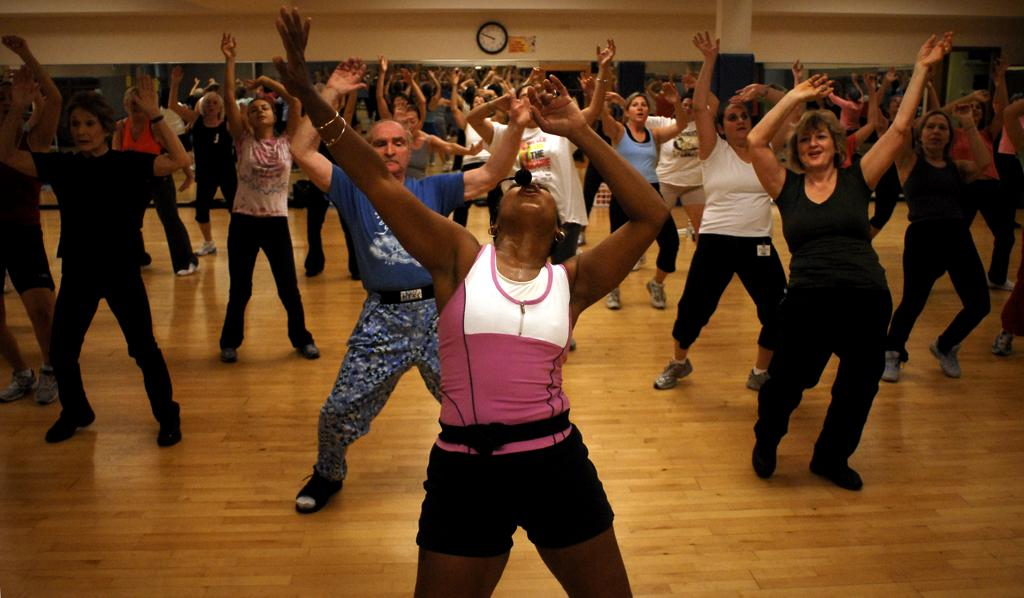face: (499, 180, 557, 225), (369, 128, 408, 173), (796, 123, 834, 168), (70, 107, 104, 150), (922, 114, 949, 150), (724, 103, 749, 139), (248, 100, 274, 125), (628, 96, 647, 122), (399, 112, 418, 137), (128, 94, 145, 118), (966, 99, 981, 121), (204, 97, 218, 116), (681, 98, 695, 117), (890, 96, 903, 110), (473, 97, 483, 111)
